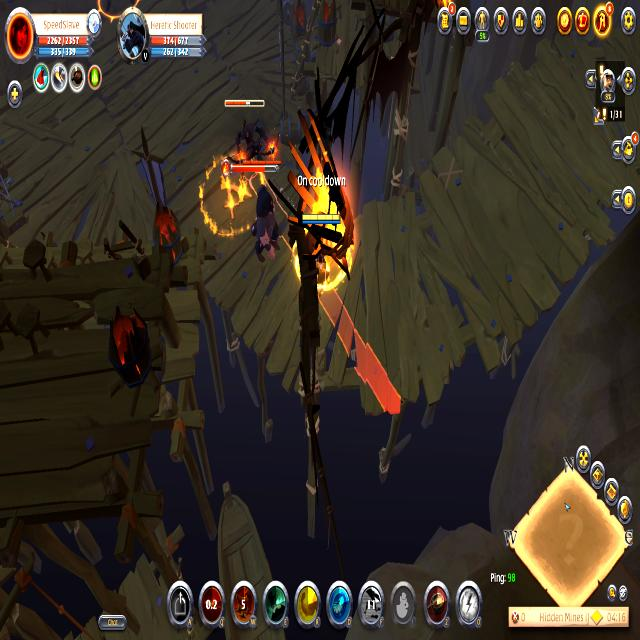ore: (242, 157, 286, 270), (222, 94, 274, 186), (94, 0, 142, 21)
red: (298, 213, 343, 301)
silver: (246, 166, 402, 415)
